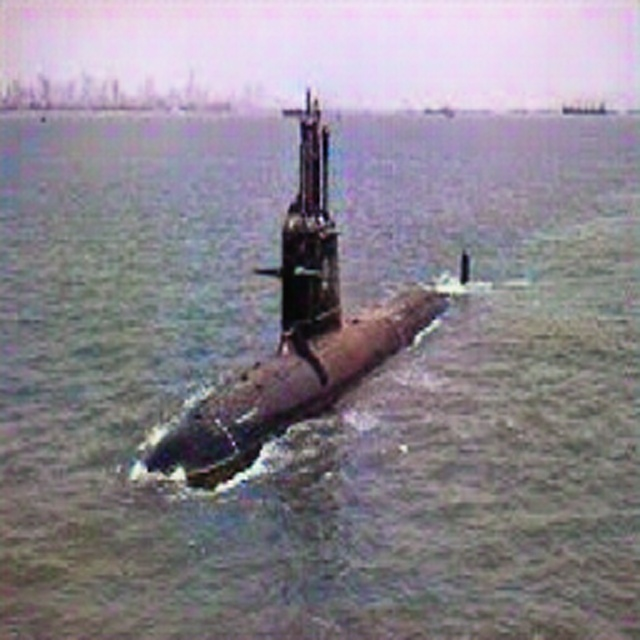submarine: (134, 82, 476, 502), (560, 80, 616, 124)
